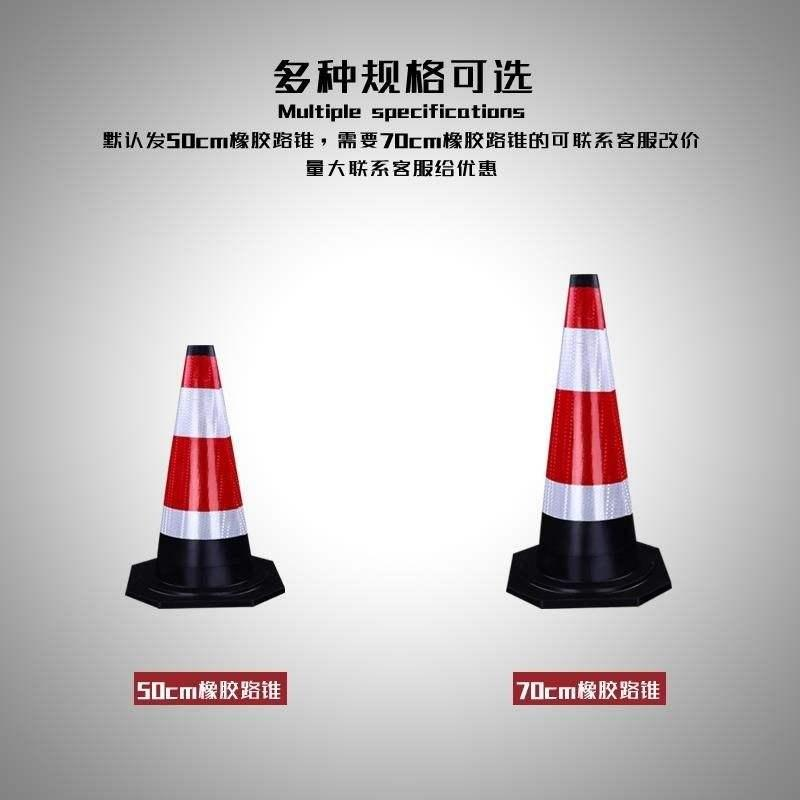sign: (487, 240, 693, 634), (119, 325, 303, 620)
